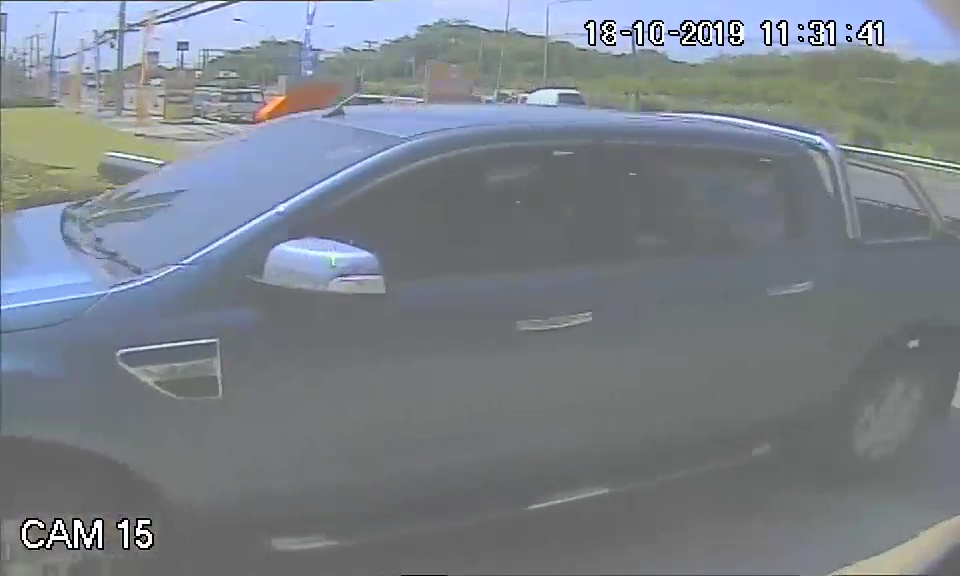pickup: (8, 102, 920, 514)
